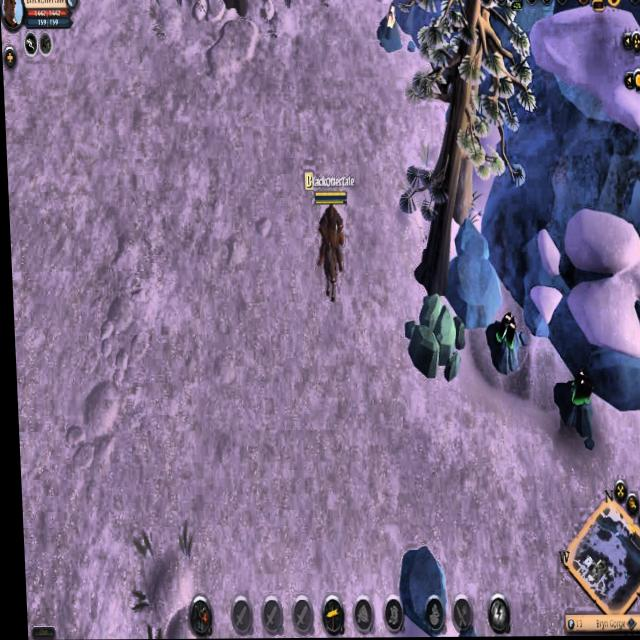copperore: (374, 3, 400, 51)
sandstone: (405, 293, 460, 380)
tinore: (551, 369, 593, 436), (483, 311, 519, 374)
